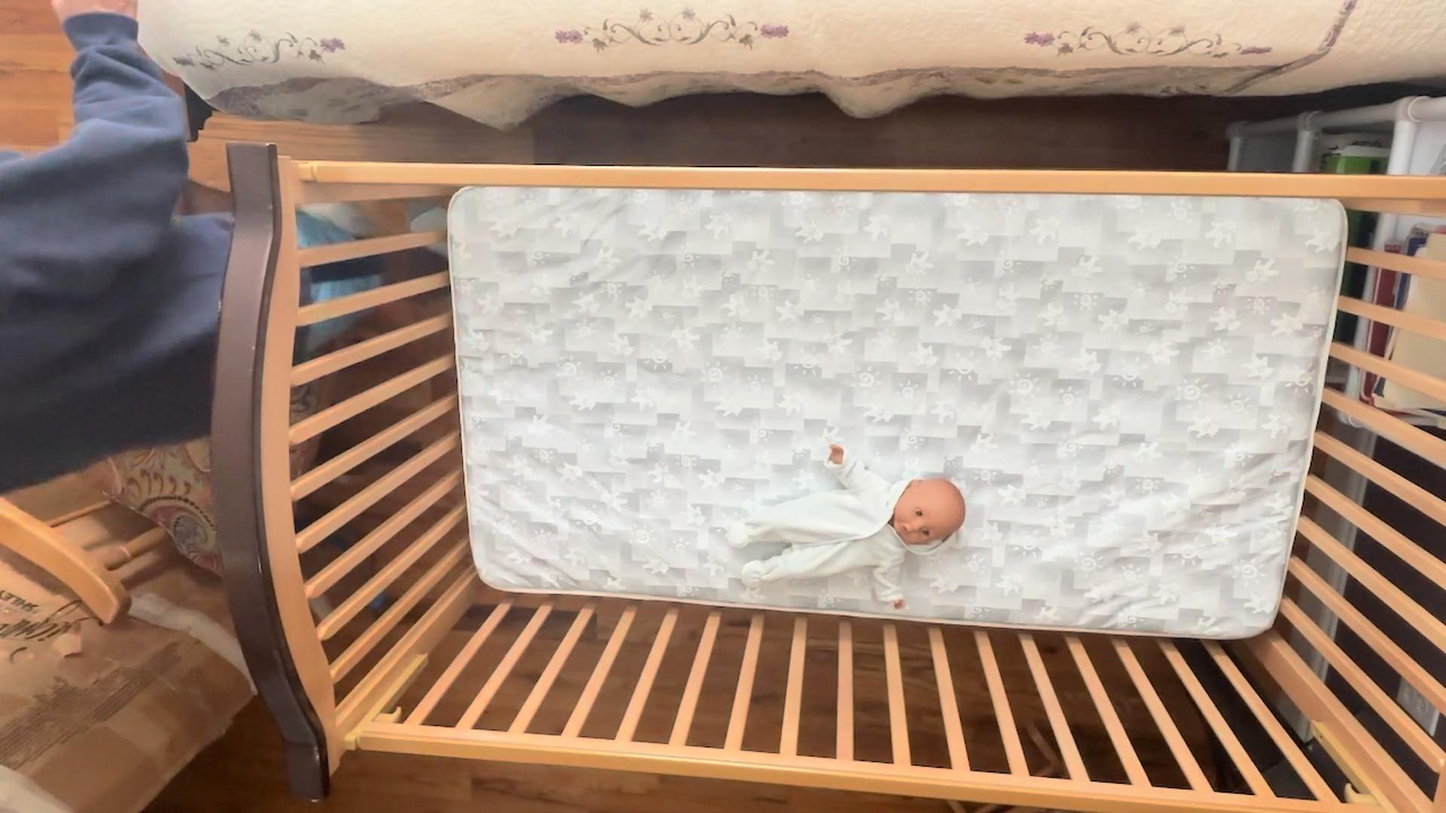baby: (724, 438, 972, 616)
